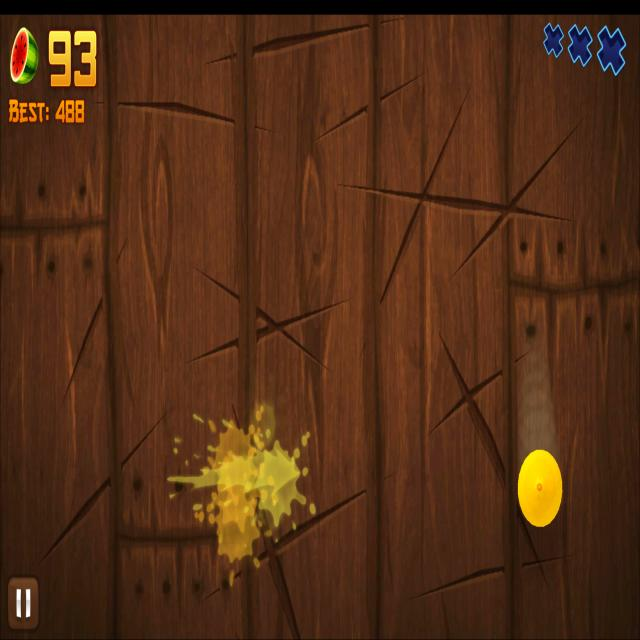fruit: (518, 446, 563, 530)
